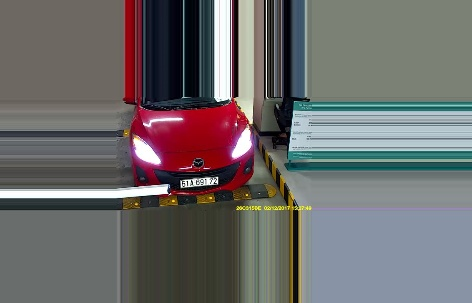plate: (177, 177, 223, 187)
